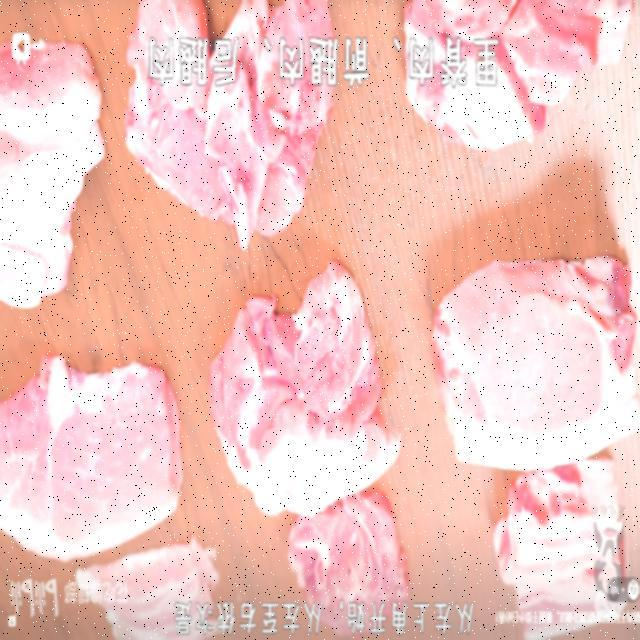pork: (419, 260, 637, 450), (213, 274, 395, 486), (118, 83, 318, 247), (0, 347, 176, 531), (1, 16, 80, 332), (482, 468, 611, 634), (499, 7, 622, 144), (78, 540, 208, 634), (278, 511, 406, 603)
